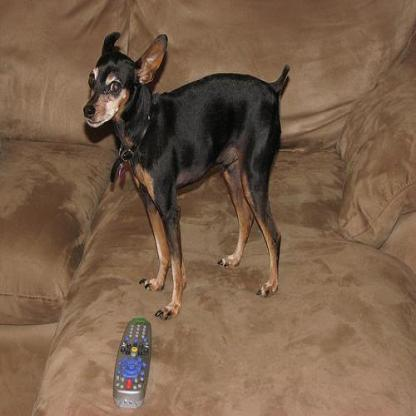miniature_pinscher: (82, 32, 288, 315)
